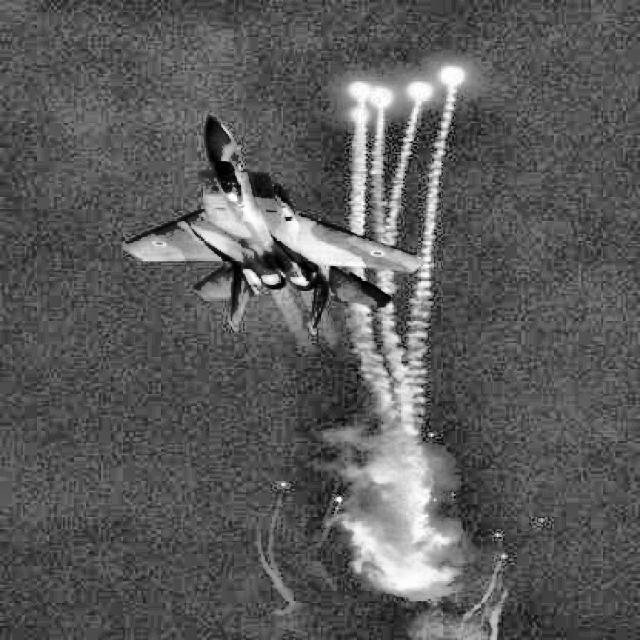F15: (120, 116, 425, 335)
